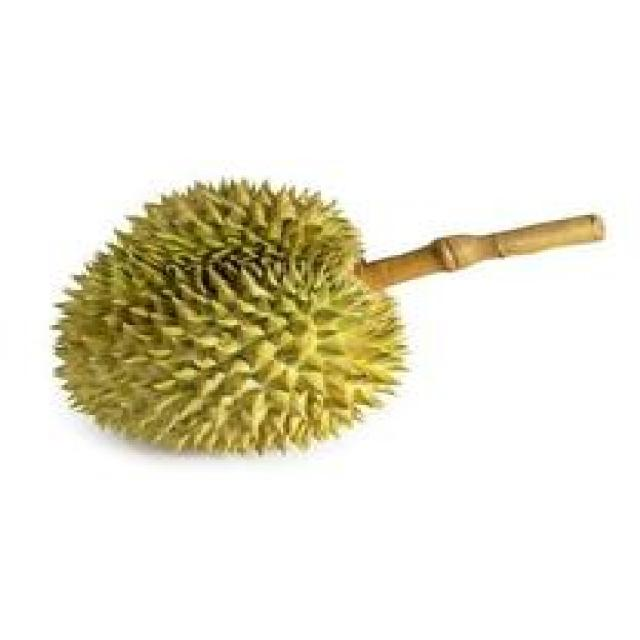fruit: (21, 145, 434, 517)
